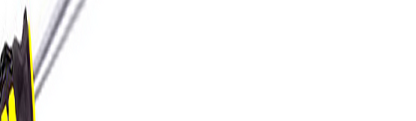screwdriver: (1, 2, 97, 121)
